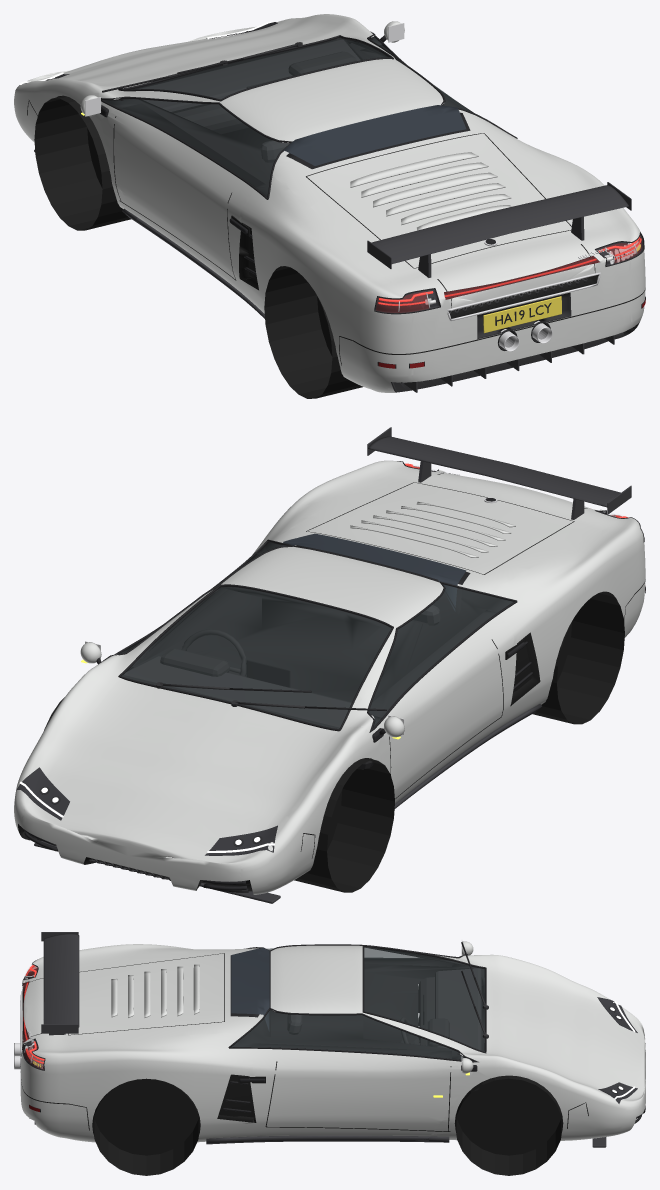
File: halcyon.glb
3 views of the same model, one above another, from view 1: azimuth 30°, elevation 25°; view 2: azimuth 150°, elevation 25°; view 3: azimuth 270°, elevation 25° (orthographic). The views are drawn at different scales.
Visible parts, largest first — view 1: CabinOpening, DoorLeft; view 2: CabinOpening, DoorLeft, DoorRight; view 3: CabinOpening, DoorRight, DoorLeft.
Part boxes in pixels (left/top/right/bottom): CabinOpening: left=14, top=14, right=645, bottom=398; DoorLeft: left=100, top=95, right=267, bottom=290; CabinOpening: left=14, top=427, right=645, bottom=903; DoorLeft: left=369, top=600, right=517, bottom=797; DoorRight: left=119, top=550, right=262, bottom=658; CabinOpening: left=14, top=932, right=645, bottom=1175; DoorRight: left=252, top=1035, right=470, bottom=1130; DoorLeft: left=364, top=952, right=451, bottom=966.
Size of the model in its own units: 2.13 by 1.18 by 4.6.
